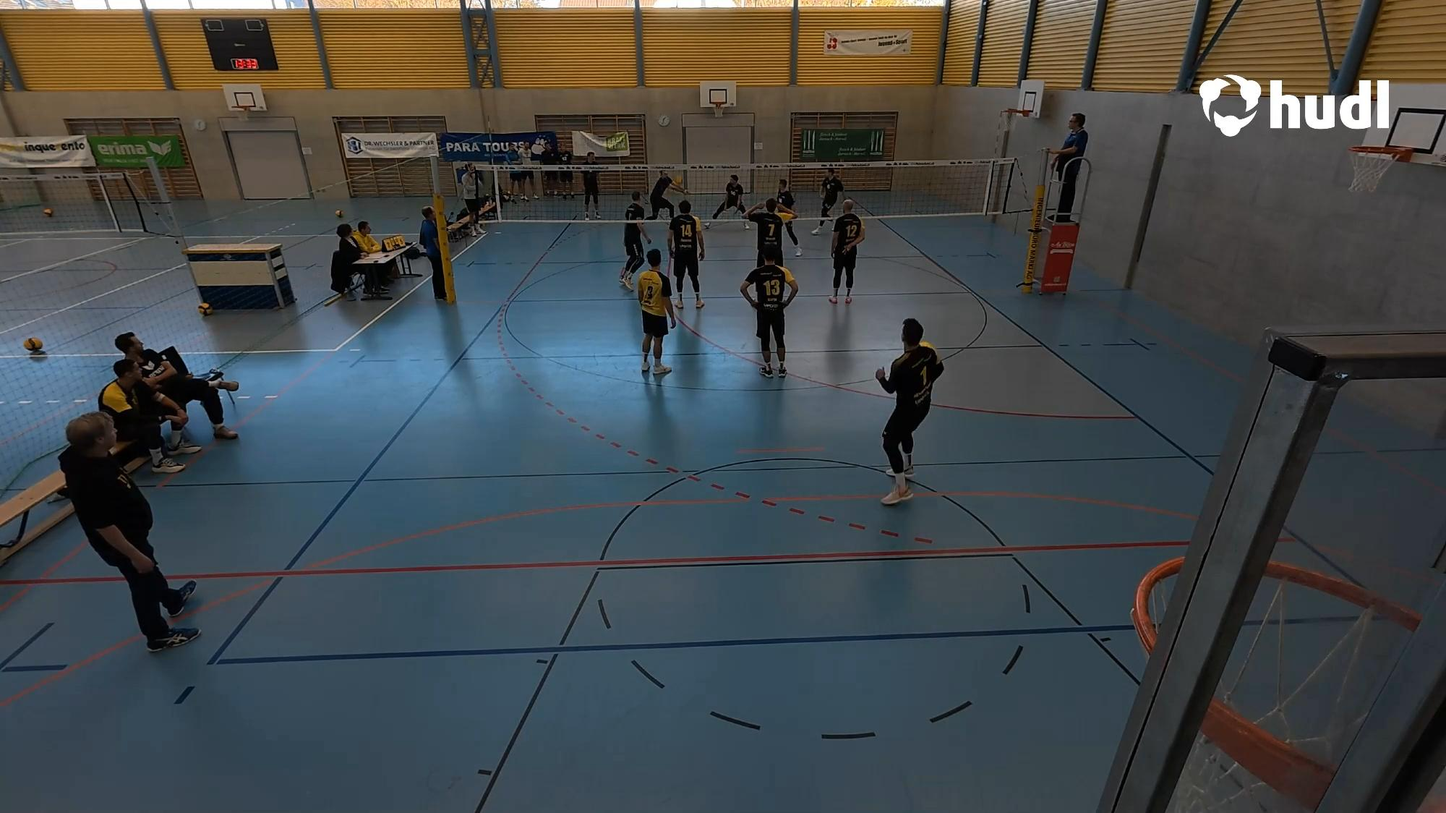Player: (876, 318, 944, 505), (742, 247, 797, 377), (635, 249, 675, 379), (667, 203, 708, 321), (830, 198, 863, 302), (752, 190, 799, 261), (617, 200, 650, 294), (771, 182, 804, 255), (578, 148, 606, 227), (814, 167, 841, 239), (719, 174, 746, 229)
Receive: (642, 163, 690, 225)
ball: (672, 175, 687, 191)
